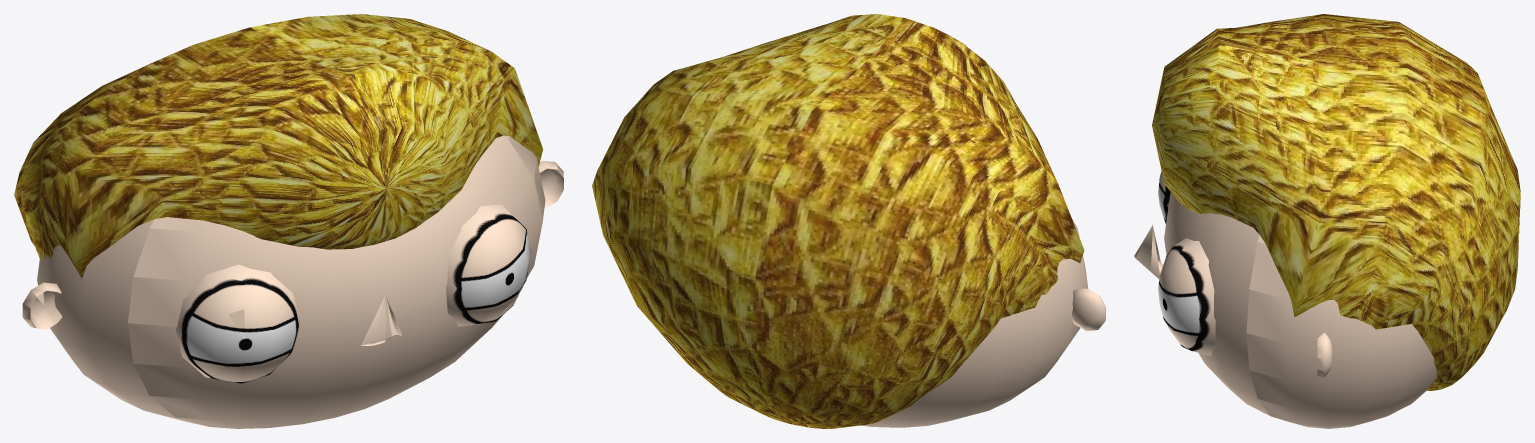
The model's file is Cabeza.obj.
3 views of the same model, side by side, from view 1: azimuth 30°, elevation 25°; view 2: azimuth 150°, elevation 25°; view 3: azimuth 270°, elevation 25° (orthographic). The views are drawn at different scales.
Parts seen in each view (by area): view 1: cabeza; view 2: cabeza; view 3: cabeza.
Part boxes in pixels (x1,y1,x2,y2): cabeza: (14,14,563,428); cabeza: (592,14,1105,428); cabeza: (1134,14,1520,428).
Bounding box in the file's own units: 5.79 × 3.84 × 3.83.
Materials: 3 (3 with a texture image).
